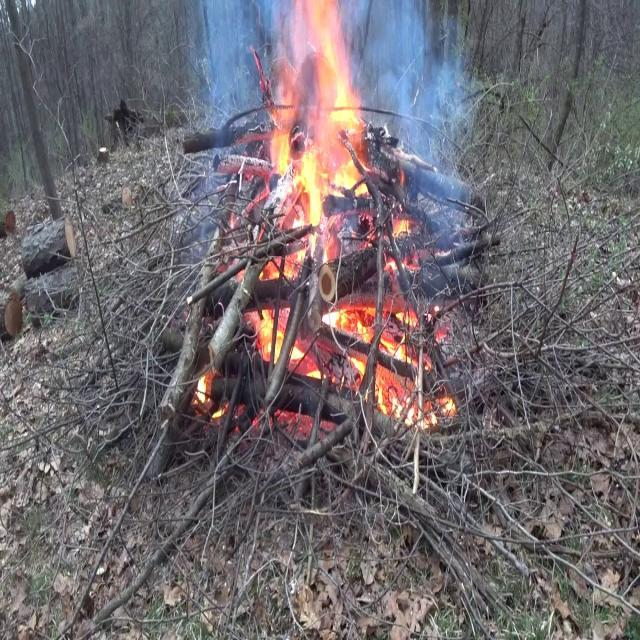Fire: (242, 0, 438, 426), (250, 0, 375, 268)
Smoke: (362, 3, 480, 225)
